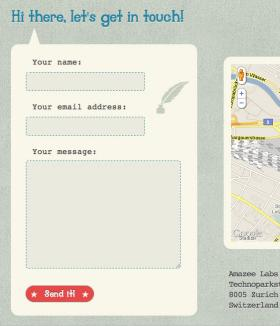button: (25, 285, 95, 302)
field: (24, 158, 182, 270), (25, 115, 146, 137), (25, 71, 146, 92)
field_with_label: (22, 147, 184, 272), (23, 58, 148, 95), (24, 102, 149, 139)
